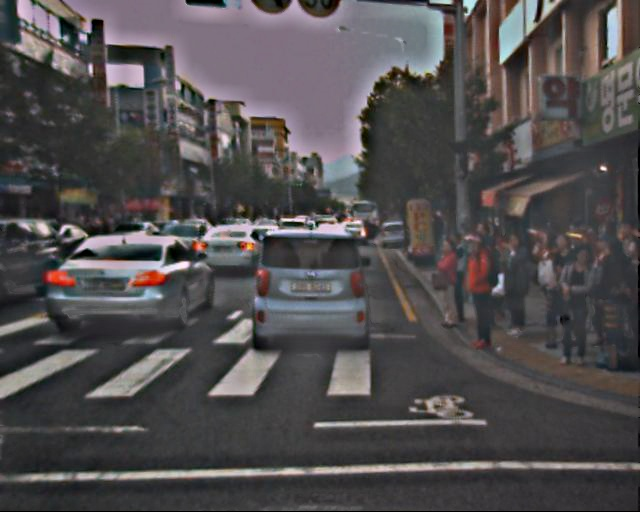person: (553, 247, 603, 370), (455, 237, 503, 354), (582, 236, 626, 344), (600, 222, 640, 336), (538, 236, 581, 342), (606, 241, 640, 364), (493, 231, 534, 330), (459, 222, 500, 321), (430, 237, 466, 324), (440, 234, 474, 317)
